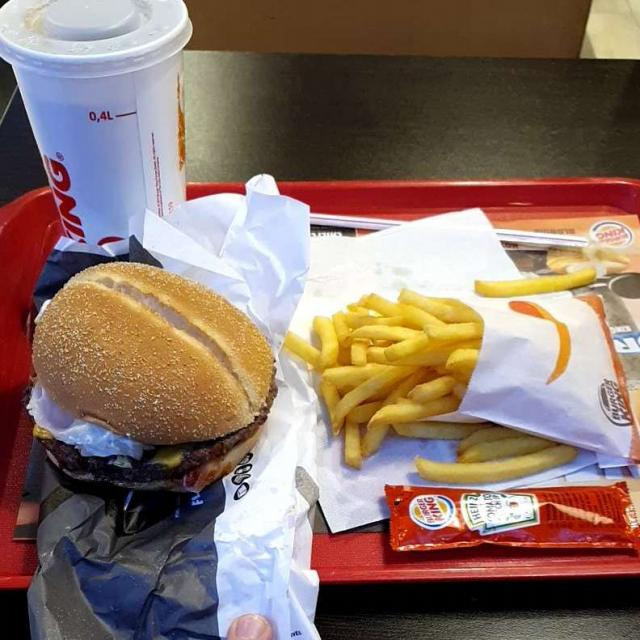chips-french-fries: (295, 291, 483, 466)
hamburger-bread-meat-ketchup: (34, 265, 271, 483)
